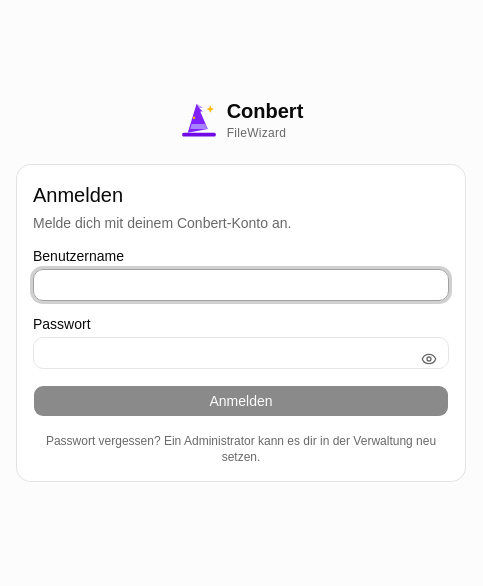
it: AuthGate › shows the login page and a clear error for a wrong password
Type "anna" into the field labelled "Benutzername".
click(241, 285); type("anna")  # box [33,269,449,301]
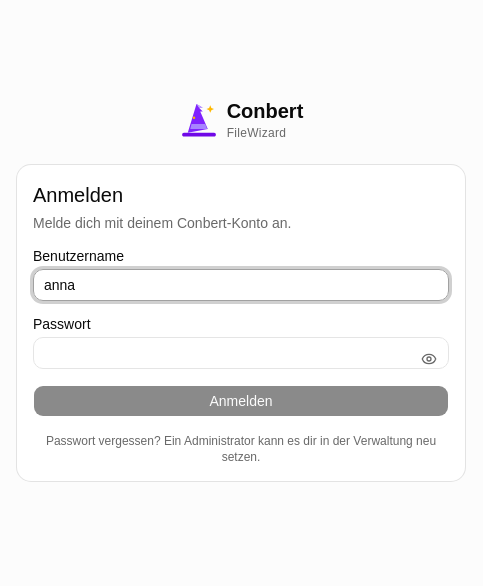
Type "falsch" into the password field labelled "Passwort".
click(241, 353); type("falsch")  # box [33,337,449,369]
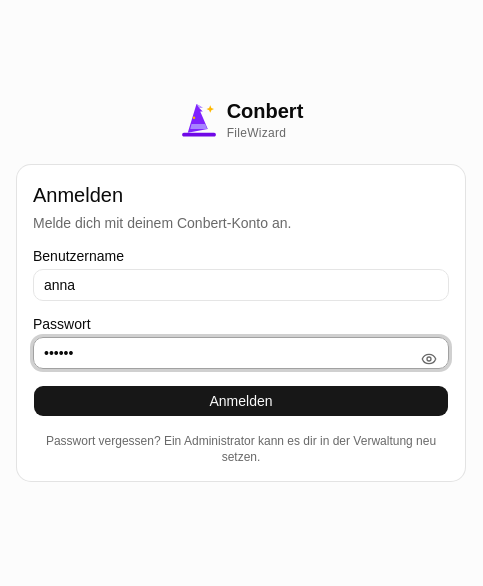
Click the button "Anmelden".
click(241, 401)  # box [33,385,449,417]
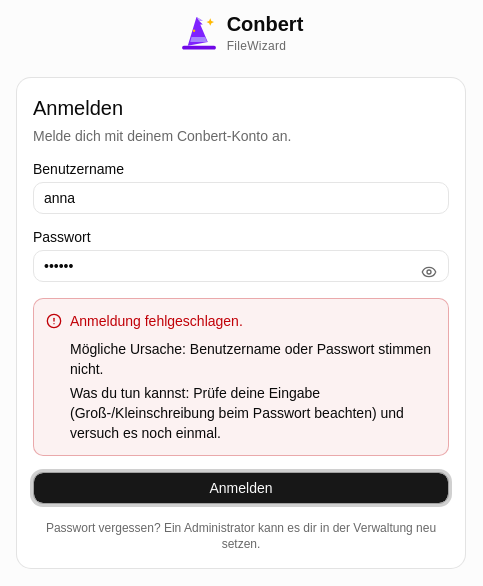
Check: the text "Anmeldung fehlgeschlagen." is shown, box [46,313,243,329]
